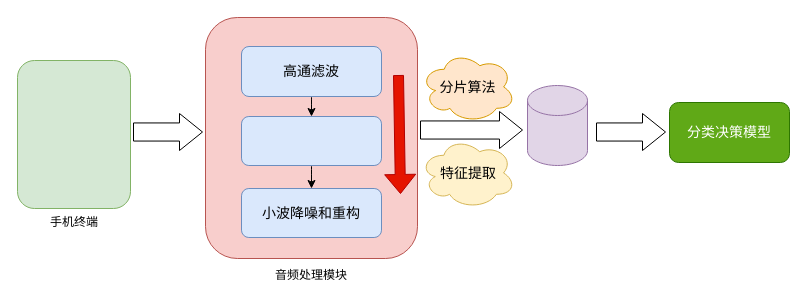
Some shapes in this 807 by 308 pixel diagram are drawn without their labels. Here are the shapes that lost their labels. From the top down, the centre of each, then its label:
At [73,134]: "录音及切割音频模块".
At [311,141]: "声波效应增强".
At [557,125]: "向量化表征".
